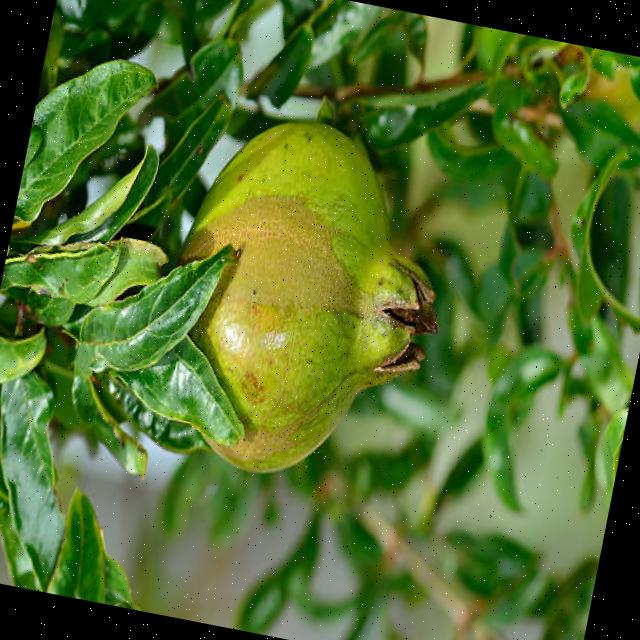Unripe: (135, 103, 468, 500)
